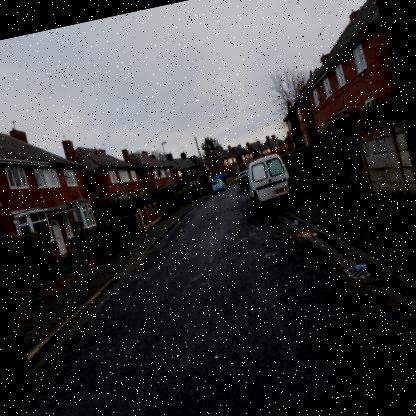Car: (245, 146, 302, 209), (236, 168, 252, 192), (209, 178, 225, 194)
